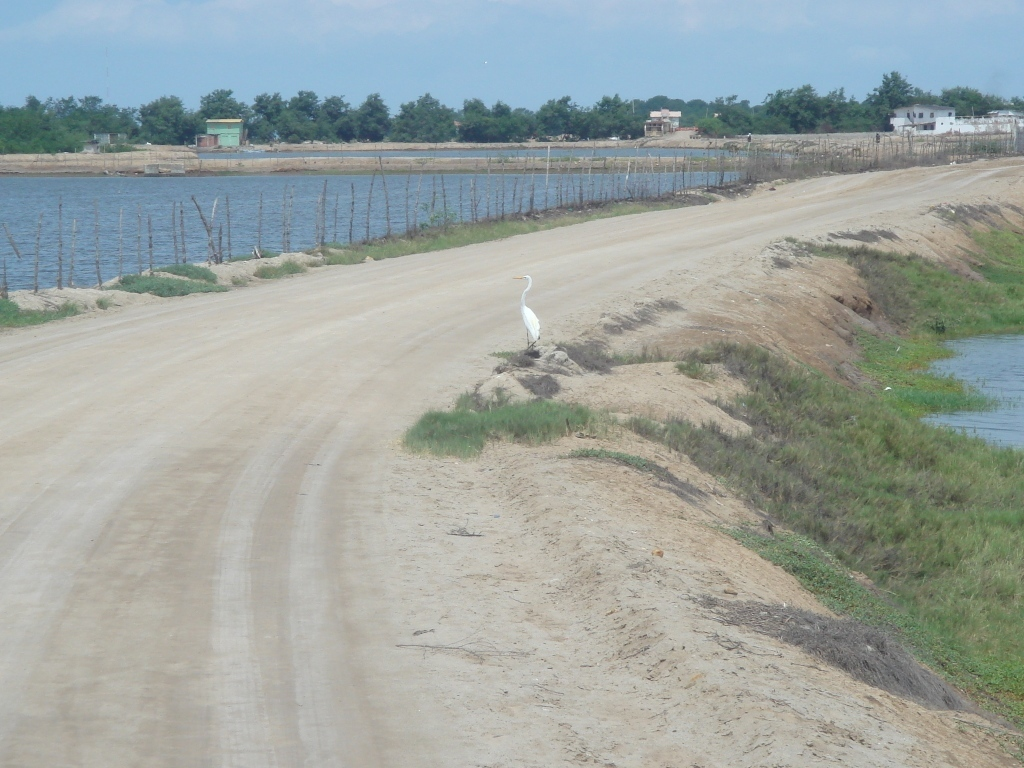Bird: (512, 275, 541, 350)
